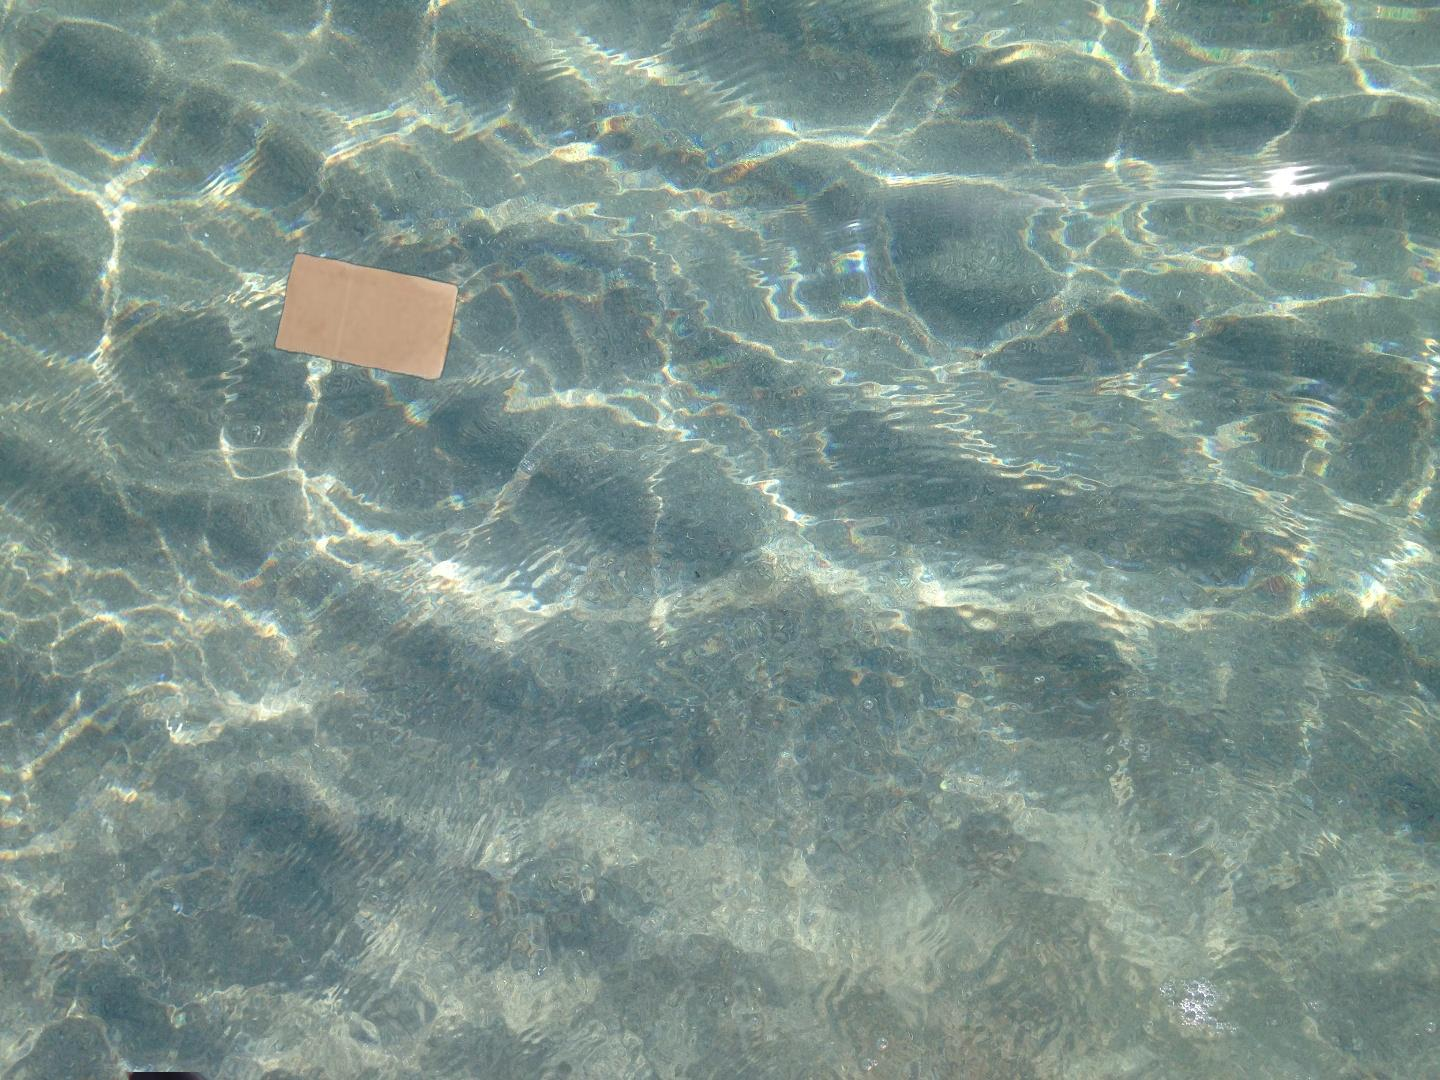paper-bag: (272, 250, 461, 384)
penholder: (121, 1072, 721, 1080)
